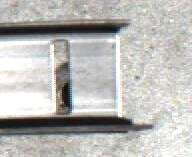40ngpress: (19, 20, 145, 132)
